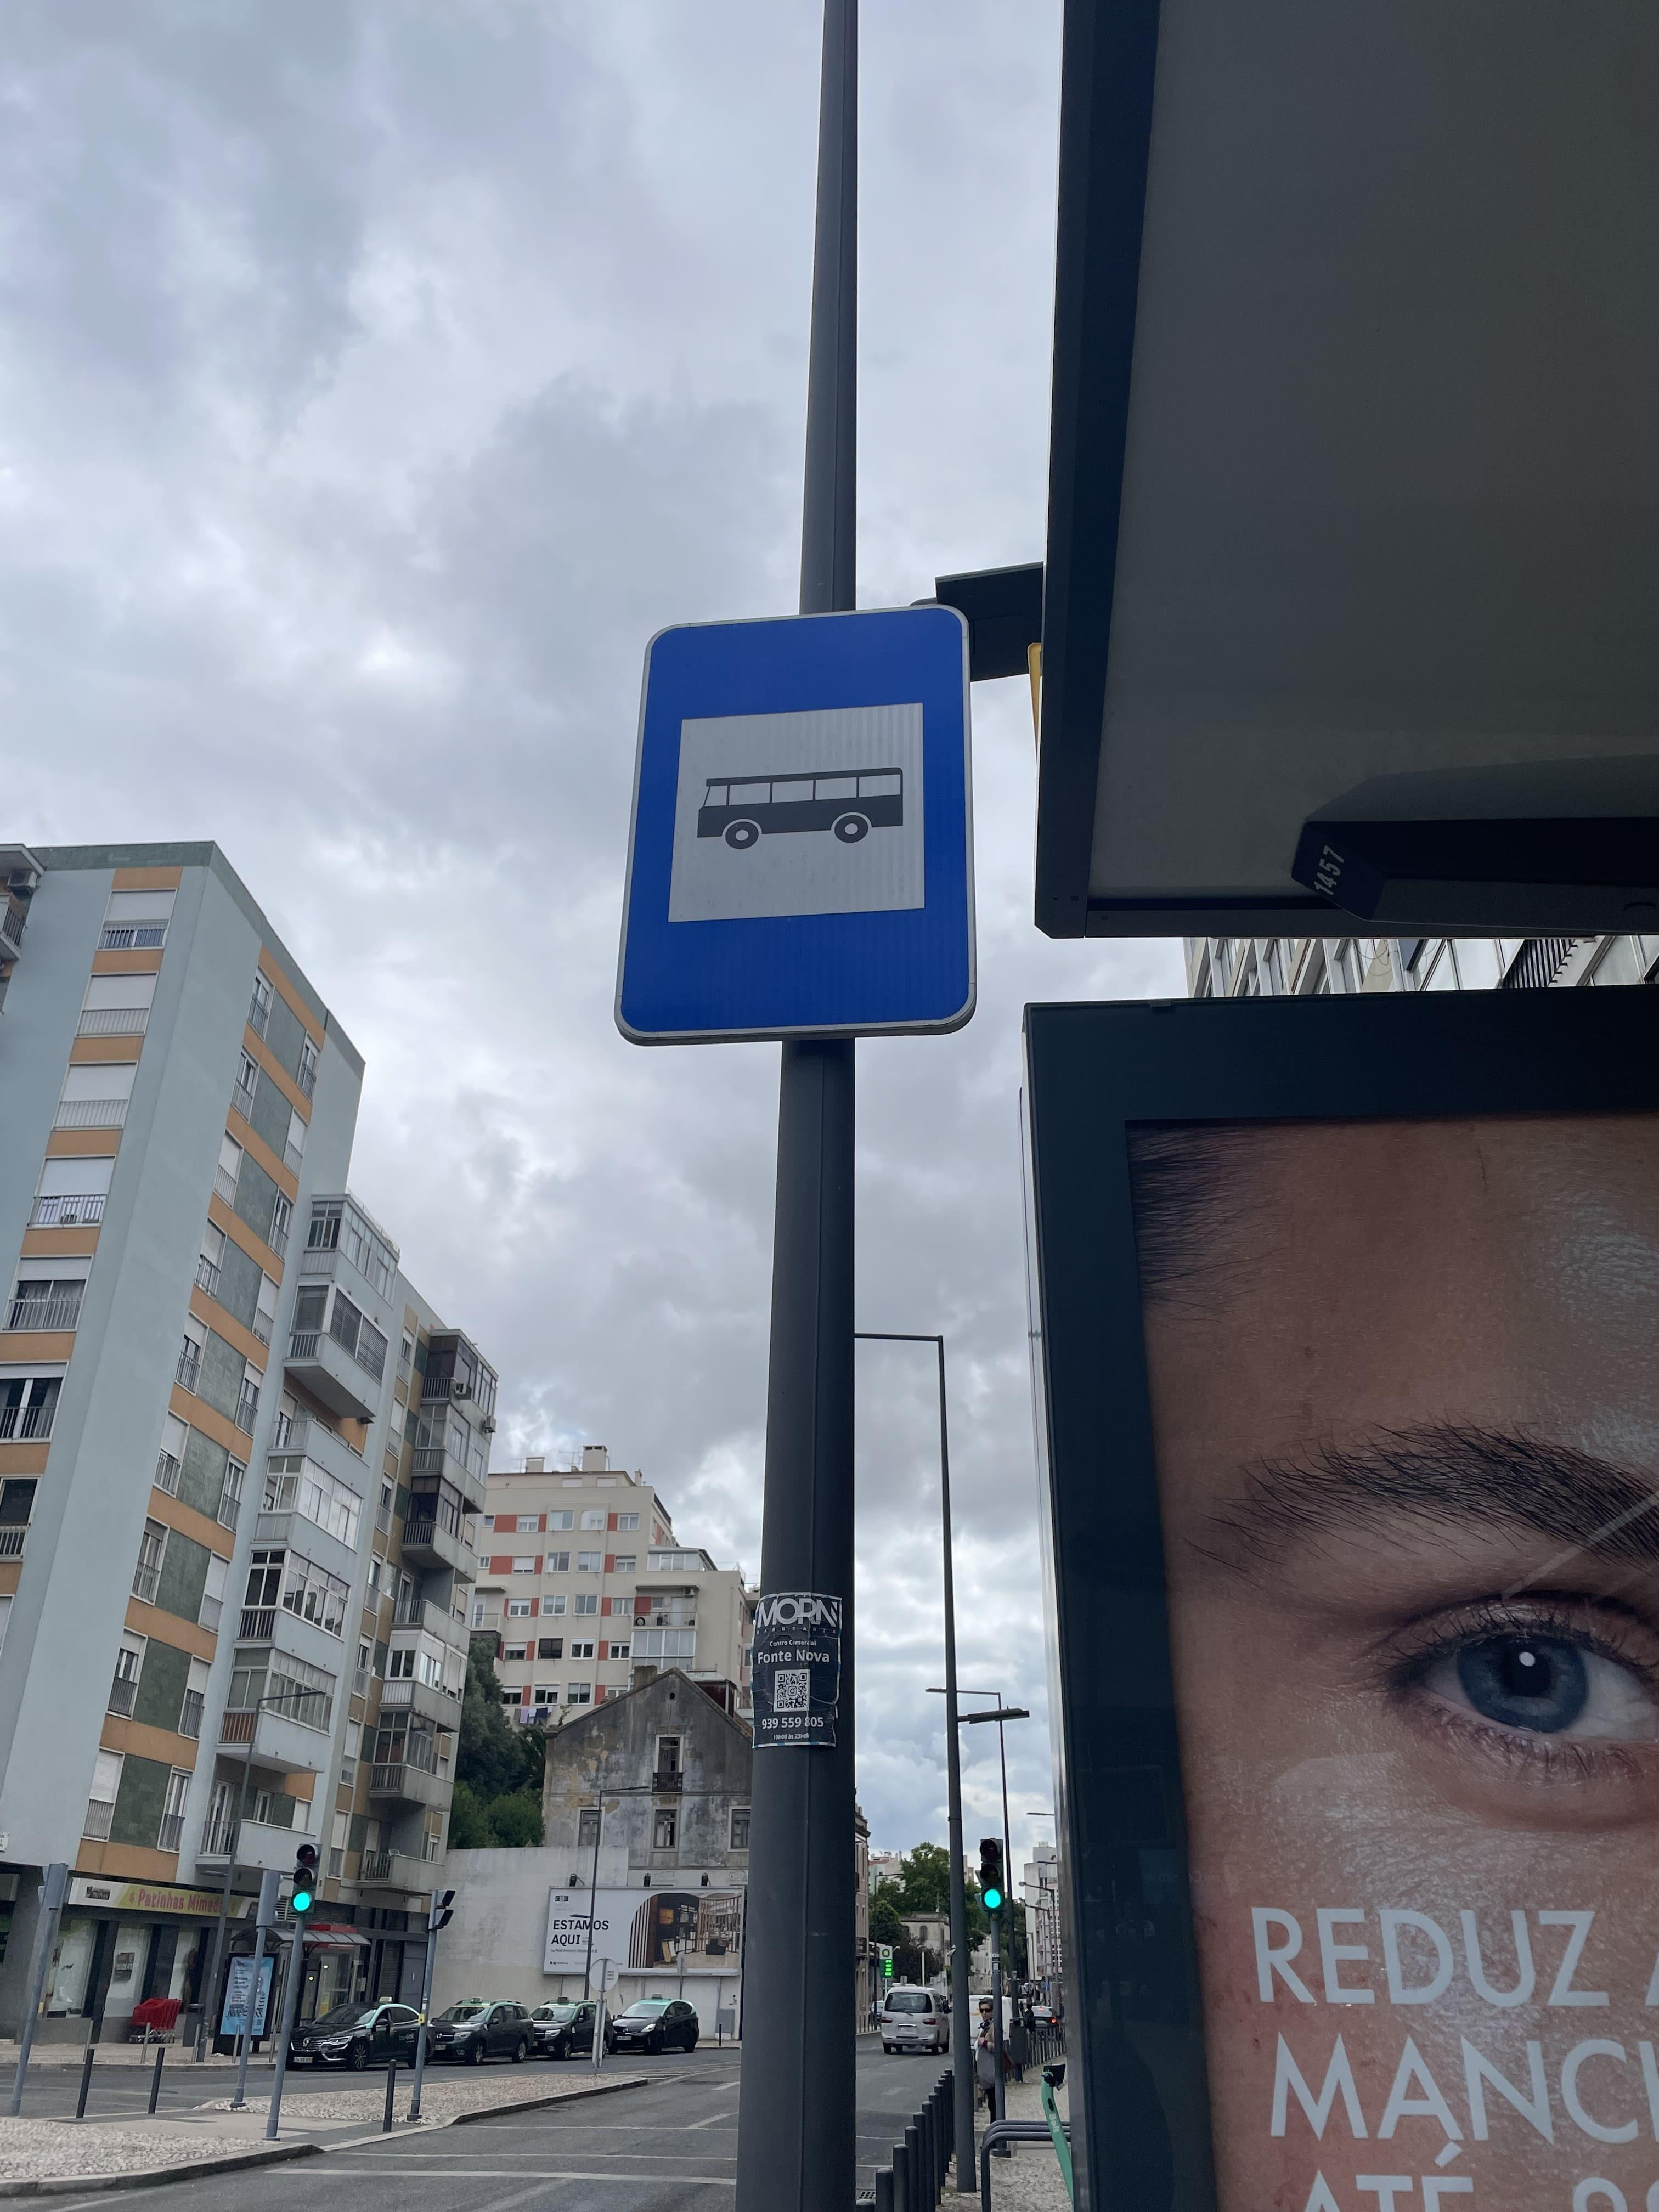Paragem de veiculos de transporte colectivo de passageiros: (636, 615, 955, 1036)
